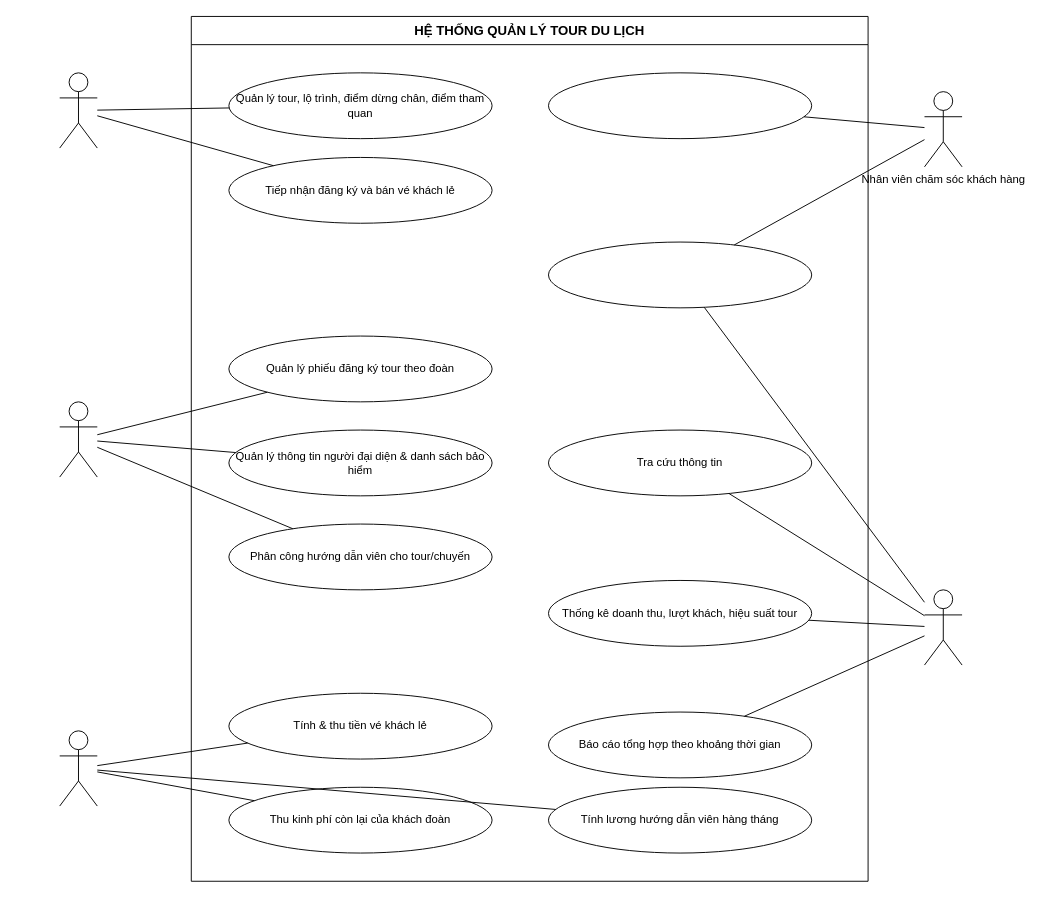
Some shapes in this 1042 by 898 pixel diagram are drawn without their labels. The centre of each missing label's shape, as x and y in pixels:
"Gửi & thu nhận phiếu khảo sát ý kiến khách hàng" goes at pixel 680 105.
"Nhân viên bán vé / lễ tân" goes at pixel 78 110.
"Nhân viên kế toán" goes at pixel 78 768.
"Nhân viên điều hành" goes at pixel 78 439.
"Quản lý" goes at pixel 943 627.
"Quản lý thông tin khách đoàn để chăm sóc" goes at pixel 680 274.
